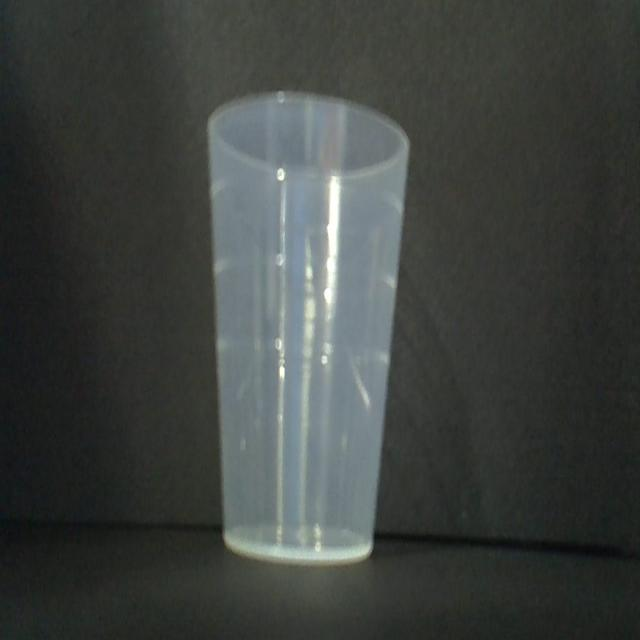cup: (208, 89, 410, 563)
